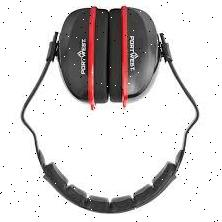Ear_protector: (55, 0, 110, 129), (115, 0, 160, 128)
